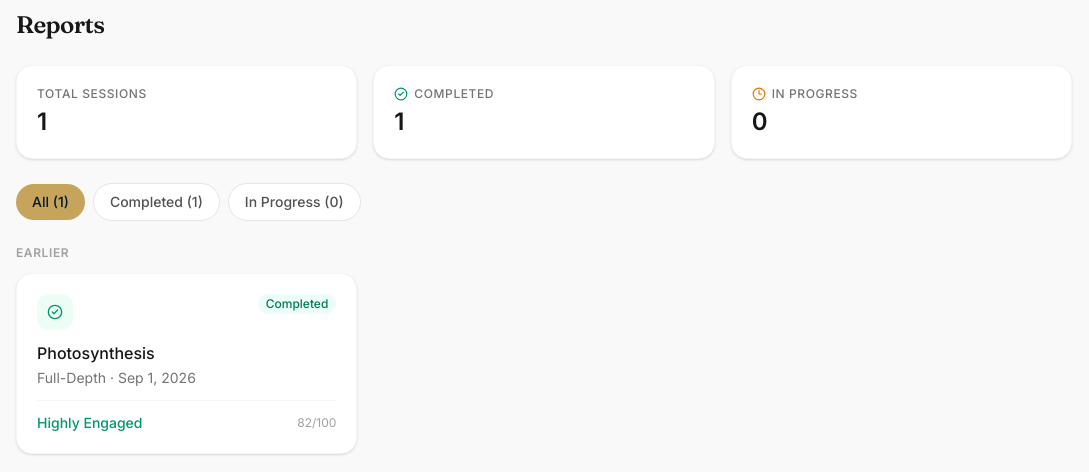
ReportsIndex — Story 2-58 / BR-7 › filter tabs › shows a friendly "no match" message, not an empty grid, when a filter matches zero sessions
The image size is (1089, 472).
Click the tab "In Progress (0)" at (294, 202), box 228,183 -> 361,221
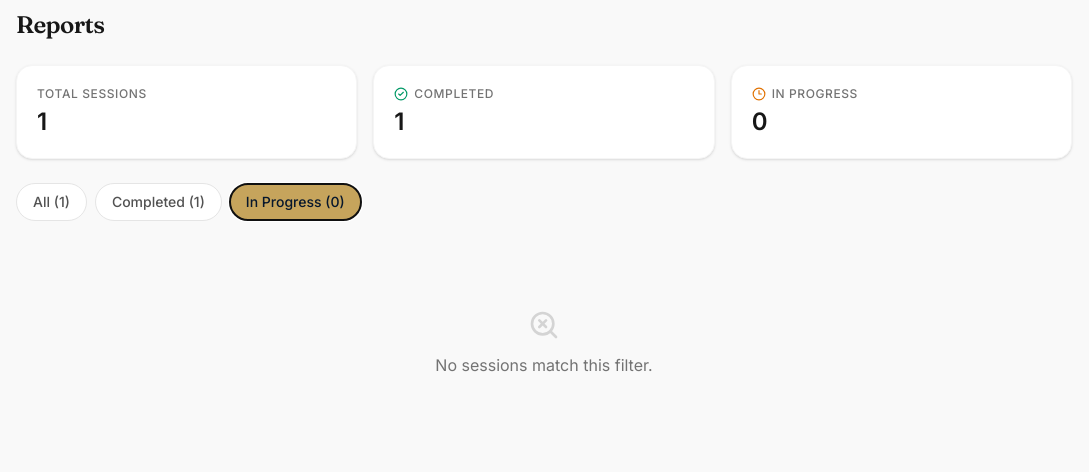
Now the element with test id "reports-index-no-match" is shown, box 435,309 -> 653,375
Now the link with test id "session-card-sess_1" is gone
